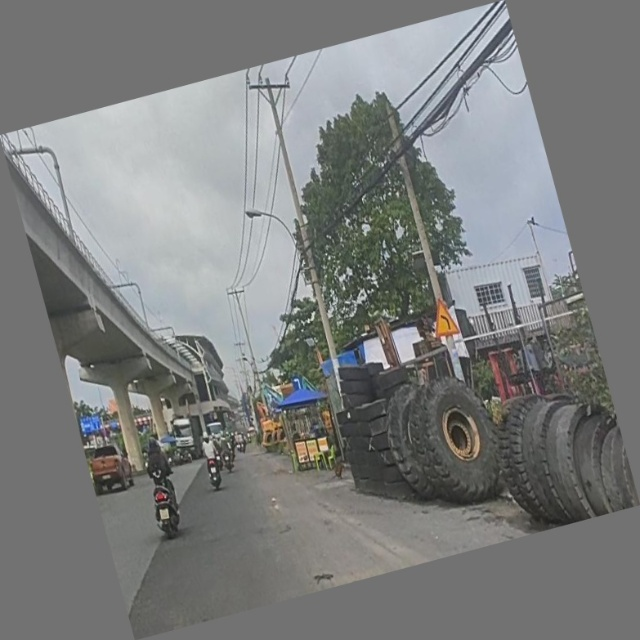R.301e: (290, 374, 304, 392)
W.201a: (427, 295, 460, 340)
